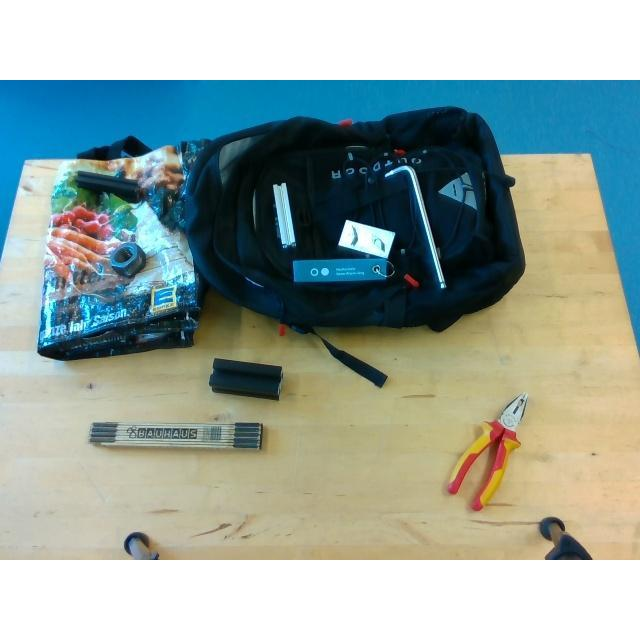AllenKey: (385, 164, 447, 290)
F20_20_B: (76, 170, 140, 202)
F20_20_G: (273, 182, 297, 248)
M30: (108, 242, 146, 274)
S40_40_B: (209, 358, 281, 398)
